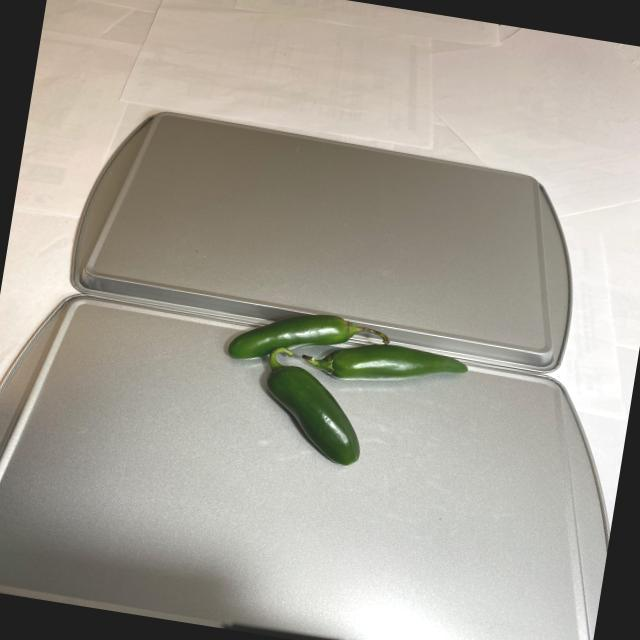chilli: (197, 294, 480, 490)
